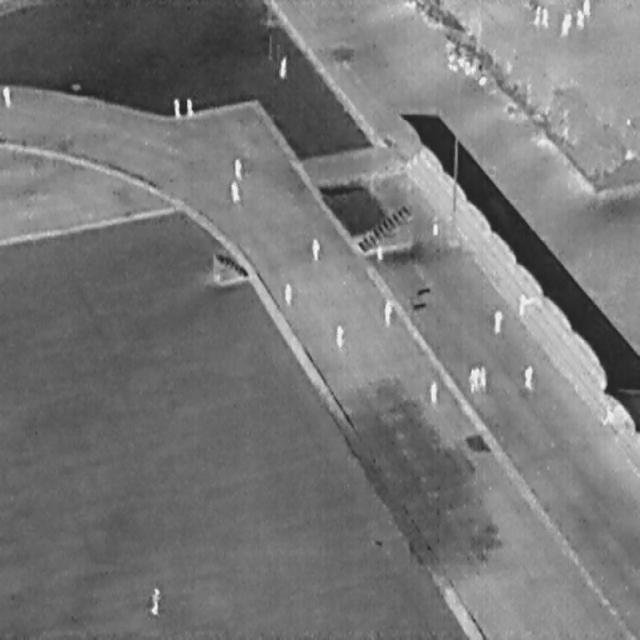DontCare: (438, 38, 490, 88)
Person: (149, 586, 161, 615), (0, 85, 12, 109), (523, 364, 534, 390), (561, 10, 571, 36), (383, 299, 392, 326), (229, 180, 240, 202), (493, 308, 503, 332), (429, 380, 438, 405), (335, 323, 344, 348), (278, 54, 287, 78), (233, 156, 242, 180), (283, 282, 292, 306), (311, 236, 320, 260), (533, 4, 541, 26), (582, 0, 591, 19), (186, 98, 194, 118), (576, 8, 584, 28), (541, 6, 548, 28), (173, 98, 180, 119), (431, 214, 438, 235), (468, 368, 474, 392), (480, 364, 486, 388), (474, 365, 479, 390), (376, 239, 382, 259)
